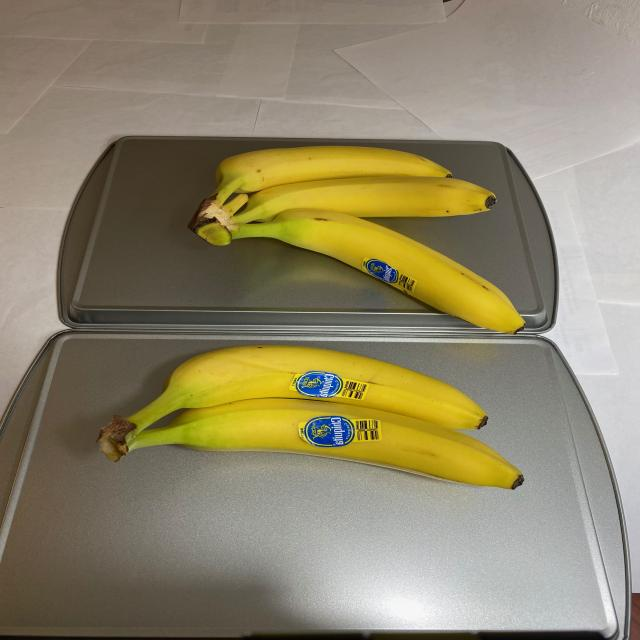Banana: (94, 340, 525, 502), (185, 142, 537, 334)
